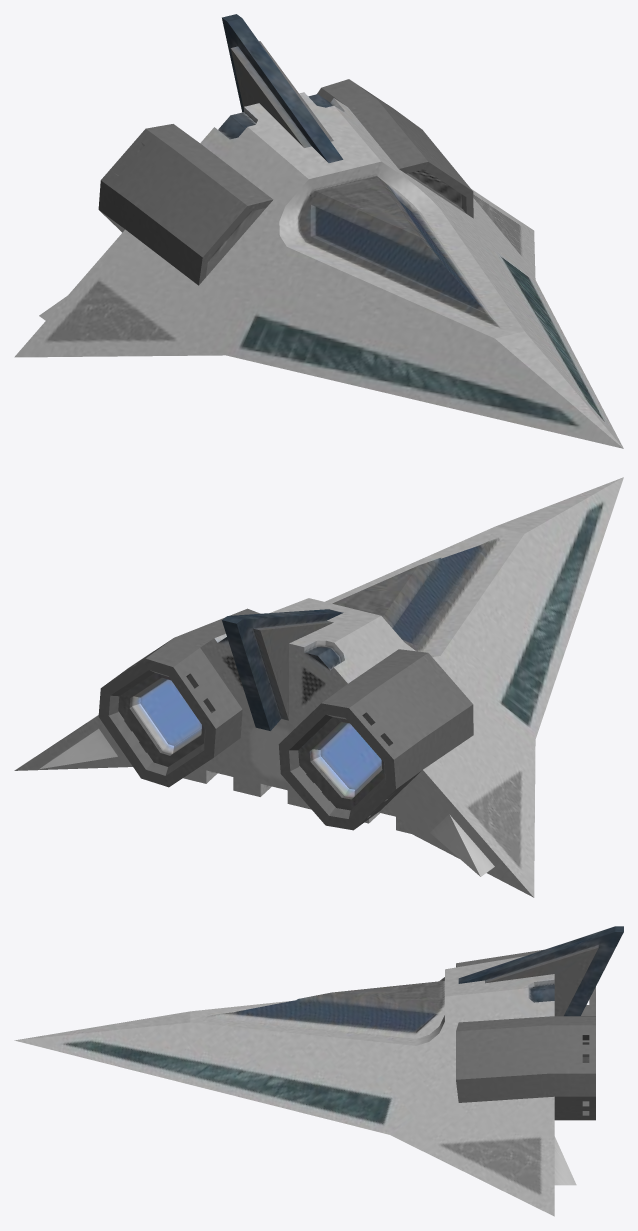
The model's file is fighter-0-2.glb.
The picture shows the model from 3 angles, top to bottom: view 1: azimuth 30°, elevation 25°; view 2: azimuth 150°, elevation 25°; view 3: azimuth 270°, elevation 25°; orthographic projection. The views are drawn at different scales.
Parts seen in each view (by area): view 1: fighter-0-2_0; view 2: fighter-0-2_0; view 3: fighter-0-2_0.
Part boxes in pixels (x1,y1,x2,y2): fighter-0-2_0: (14,14,623,448); fighter-0-2_0: (14,477,623,897); fighter-0-2_0: (14,926,623,1216).
Bounding box in the file's own units: 0.7607 × 0.3428 × 1.
Materials: 1 (1 with a texture image).
